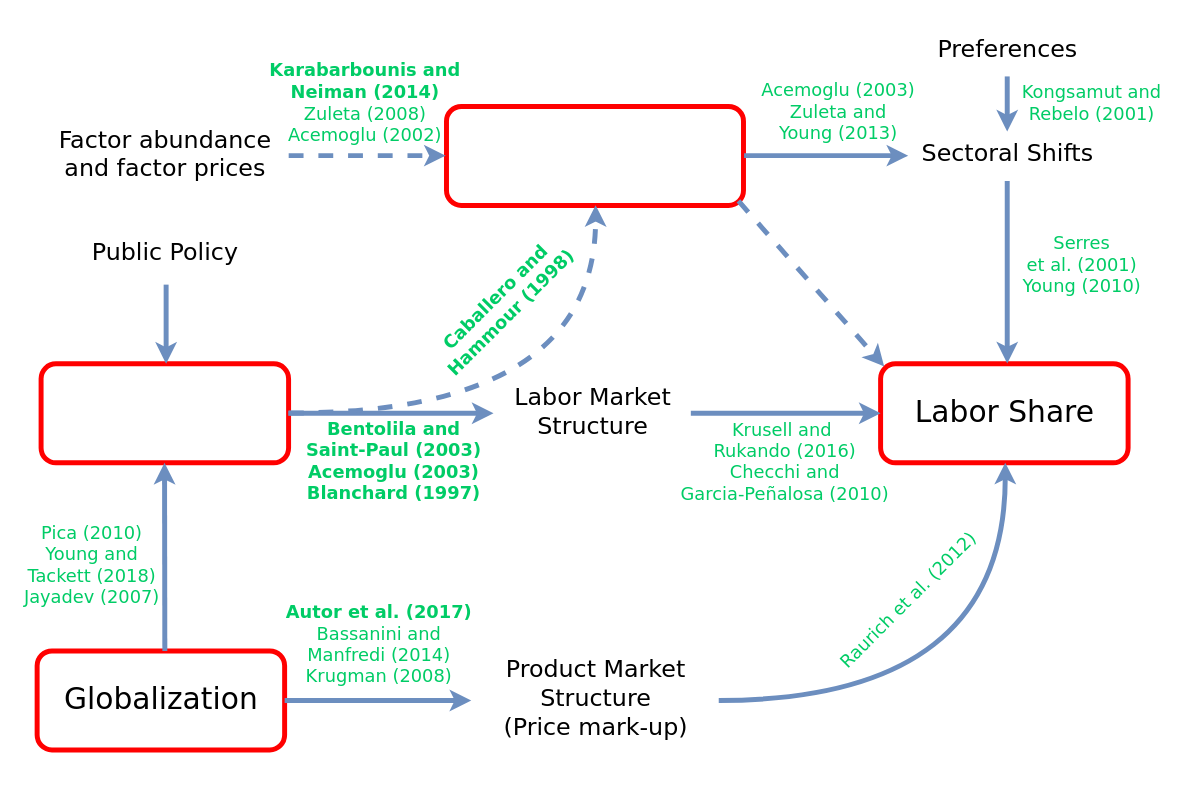
This 1187x786 diagram has some shape labels left out. Here are the shapes that lost their labels. From the top down, the box of each, then its label:
(444, 103, 745, 207): Biased Technical Change
(38, 361, 291, 465): Institutions
